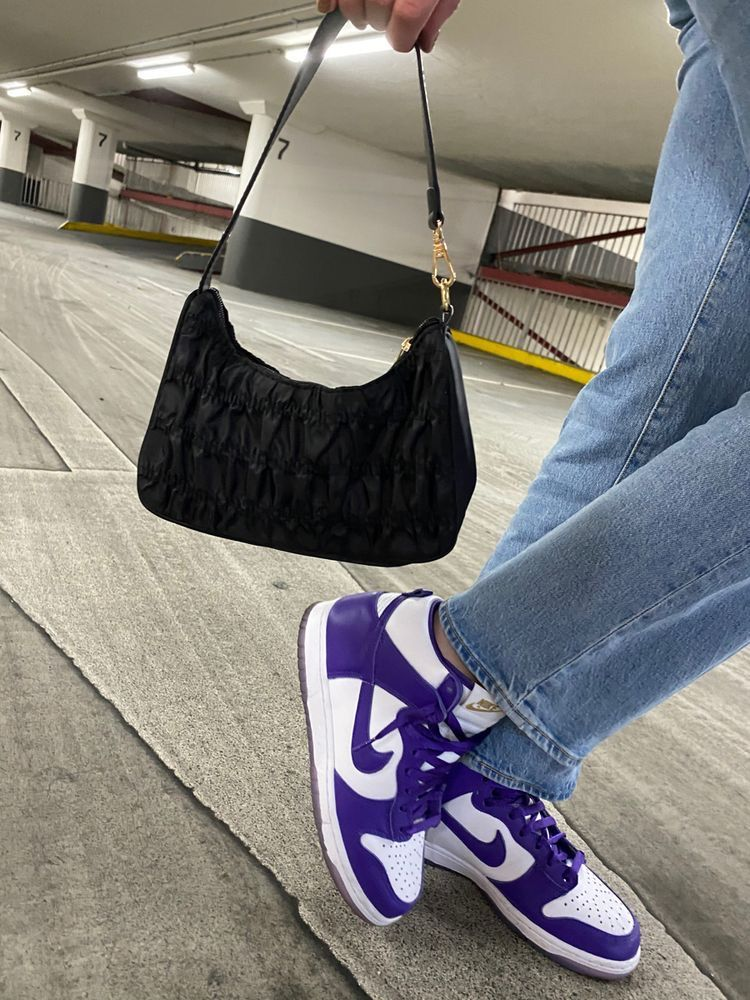nike_dunk_low_purple_court: (424, 764, 644, 977), (298, 588, 434, 924)
